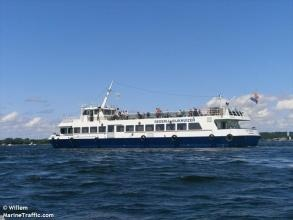otherboat: (48, 78, 255, 150)
